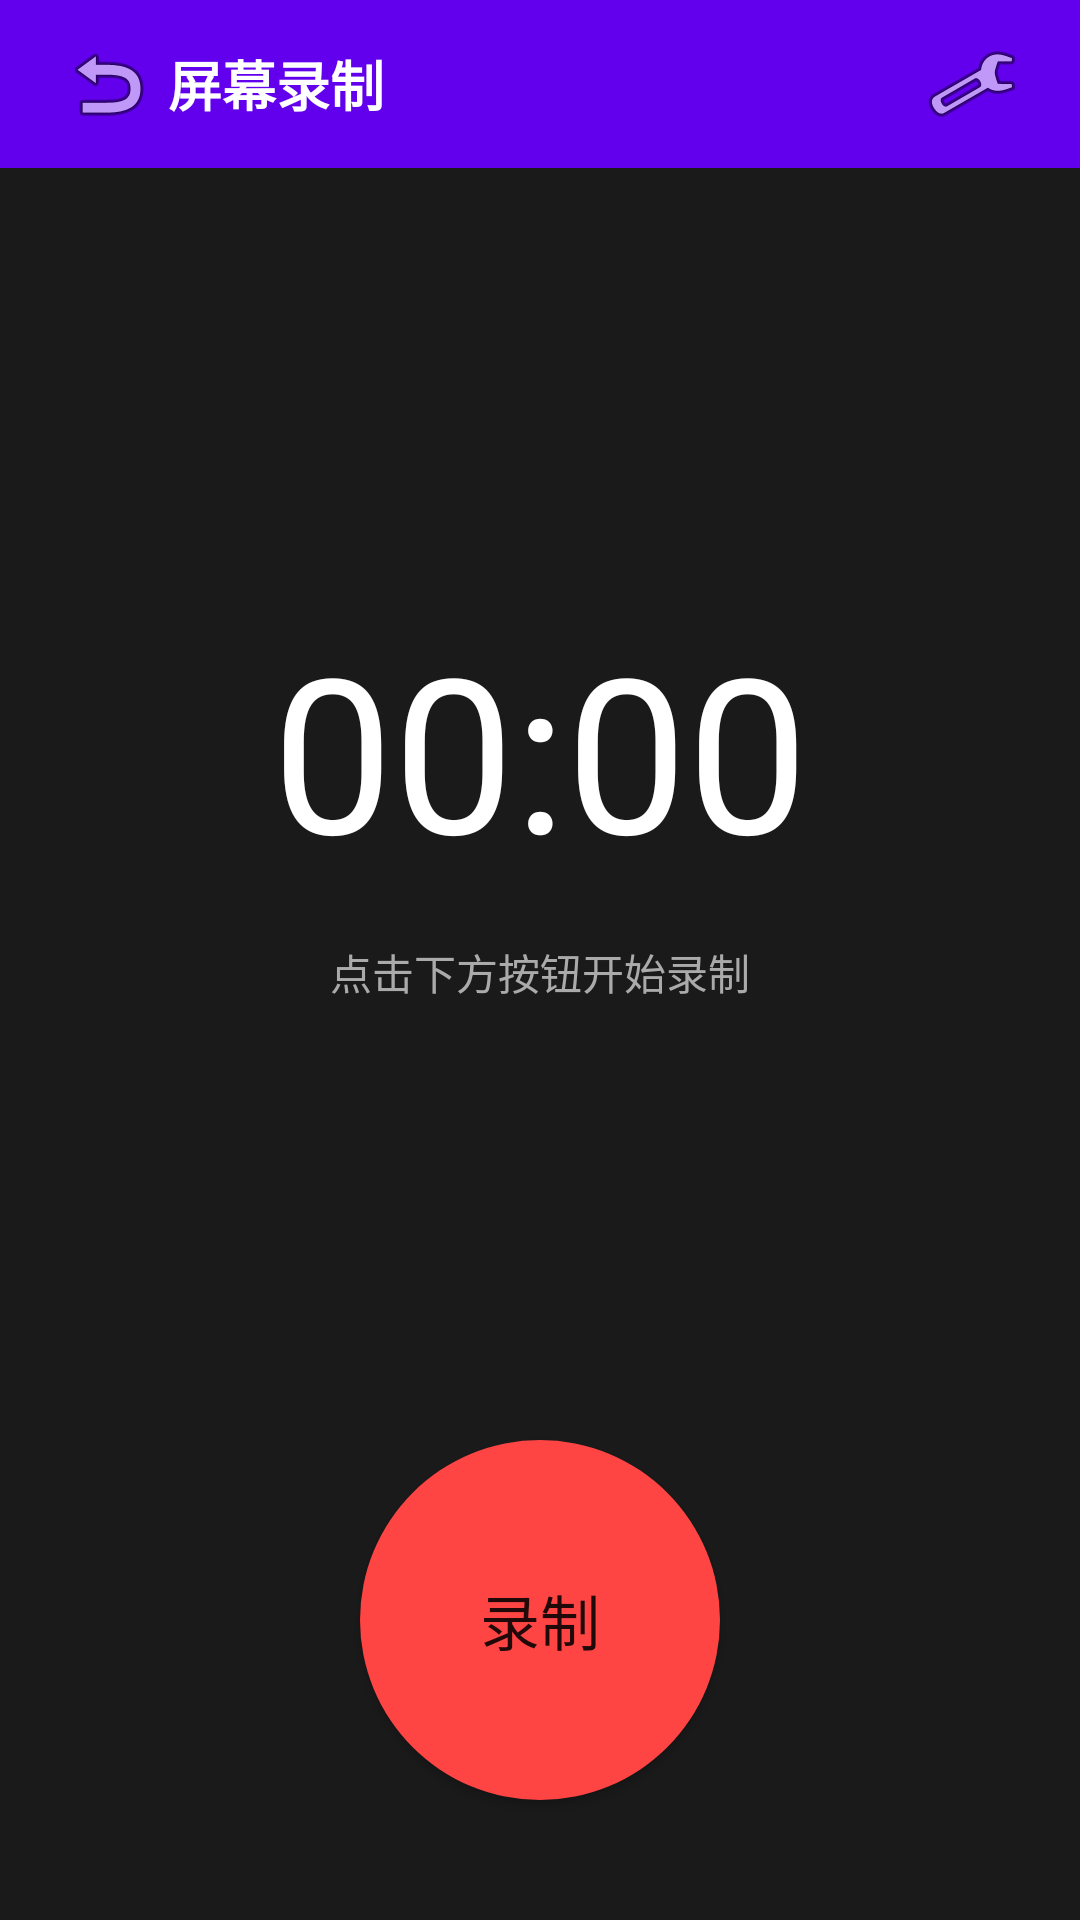

Screen size 1080px×1920px. Icon name, then its center in pixels as point (x, y):
manage: point (972, 84)
revert: point (109, 84)
